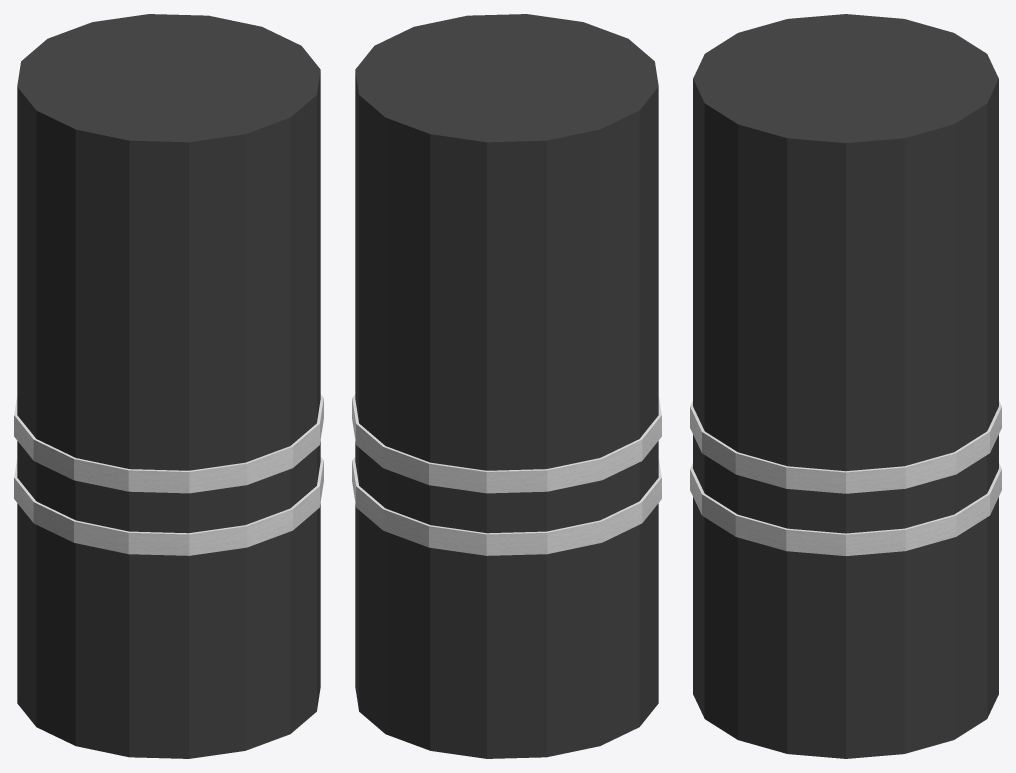
Rendered from silver_extender.obj.
3 renders of one model, left to right at view 1: azimuth 30°, elevation 25°; view 2: azimuth 150°, elevation 25°; view 3: azimuth 270°, elevation 25°, orthographic.
Visible parts, largest first — view 1: Cylinder, Cylinder.002, Cylinder.003; view 2: Cylinder, Cylinder.002, Cylinder.003; view 3: Cylinder, Cylinder.002, Cylinder.003.
Boxes of the visible parts, x1,y1,x2,y2 form: Cylinder: (17,14,320,758); Cylinder.002: (14,394,323,493); Cylinder.003: (14,457,323,555); Cylinder: (355,14,658,758); Cylinder.002: (352,394,661,493); Cylinder.003: (352,457,661,555); Cylinder: (693,14,998,758); Cylinder.002: (690,401,1001,493); Cylinder.003: (690,463,1001,555).
Bounding box in the file's own units: 0.204 × 0.4484 × 0.204.
